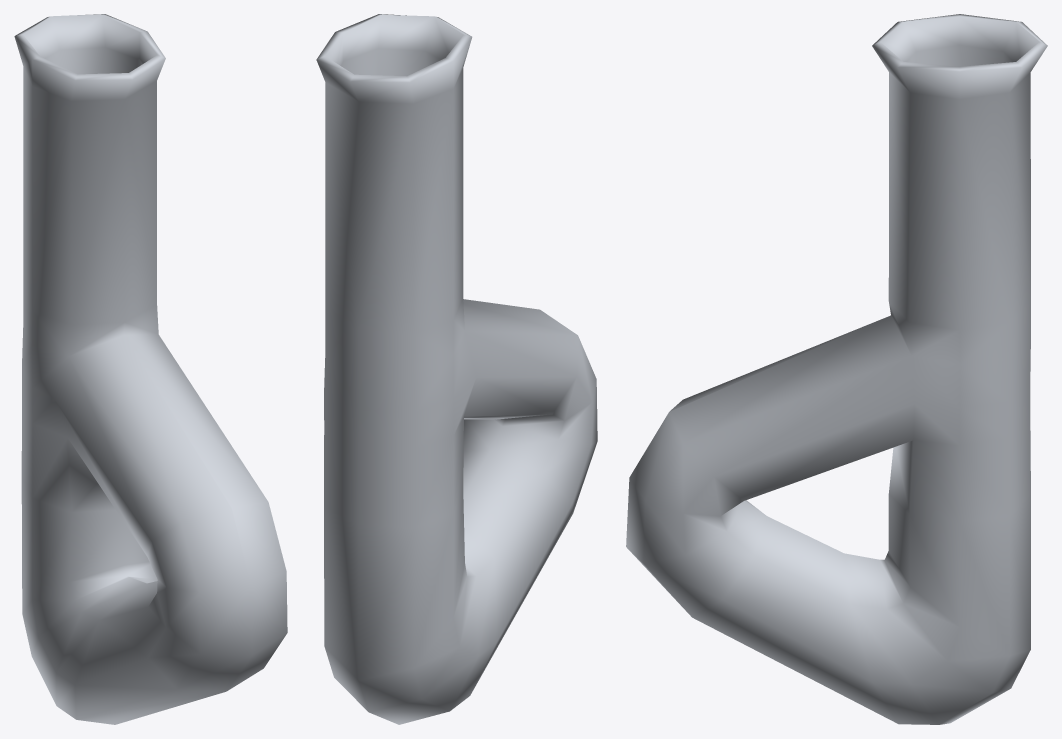
The model's file is bottle_glassware_thiele_tube_.glb.
3 renders of one model, left to right at view 1: azimuth 30°, elevation 25°; view 2: azimuth 150°, elevation 25°; view 3: azimuth 270°, elevation 25°, orthographic. The views are drawn at different scales.
Visible parts, largest first — view 1: bottle_glassware_thiele_tube.; view 2: bottle_glassware_thiele_tube.; view 3: bottle_glassware_thiele_tube..
Part boxes in pixels (x1,y1,x2,y2): bottle_glassware_thiele_tube.: (14, 14, 287, 724); bottle_glassware_thiele_tube.: (316, 14, 597, 724); bottle_glassware_thiele_tube.: (626, 14, 1047, 724).
Bounding box in the file's own units: 5.78 × 31.78 × 17.83.
Materials: 1 (1 with a texture image).
